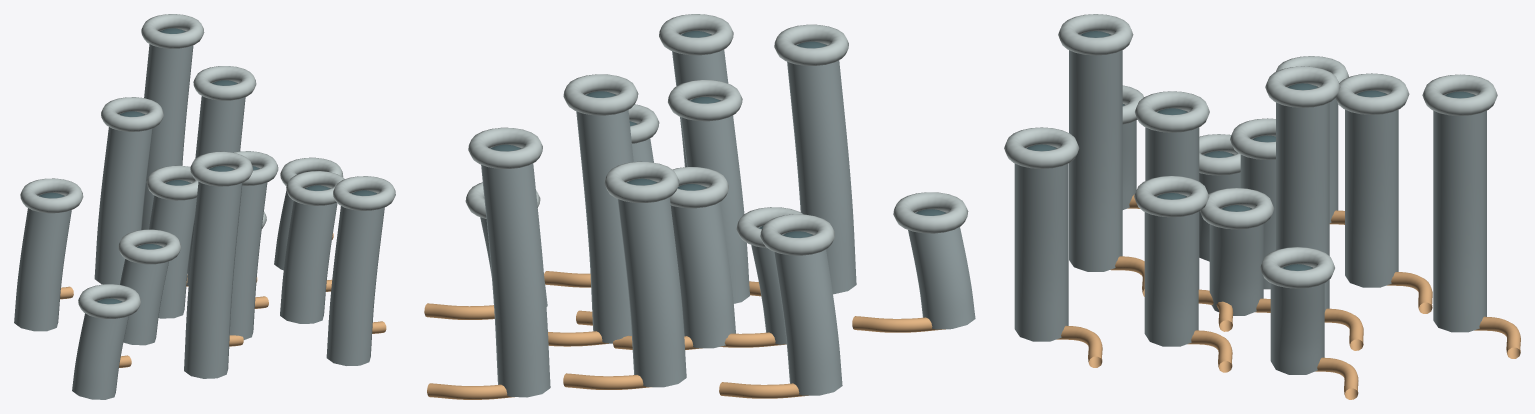
Rendered from bio_thermal_colony_16_near.glb.
The picture shows the model from 3 angles, left to right: view 1: azimuth 30°, elevation 25°; view 2: azimuth 150°, elevation 25°; view 3: azimuth 270°, elevation 25°; orthographic projection. The views are drawn at different scales.
Parts seen in each view (by area): view 1: Chimney biofilm.007, Chimney biofilm.010, Chimney biofilm.006, Chimney biofilm.009, Chimney biofilm.005, Chimney biofilm.011, Chimney biofilm.002, Chimney biofilm.012, Chimney biofilm.001, Chimney biofilm.004, Chimney biofilm.003, Open vent rim.004 (+12 smaller); view 2: Chimney biofilm.011, Chimney biofilm.007, Chimney biofilm.006, Chimney biofilm.003, Chimney biofilm.009, Chimney biofilm.001, Chimney biofilm.002, Chimney biofilm.012, Open vent rim.012, Open vent rim.003, Open vent rim.009, Open vent rim.002 (+18 smaller); view 3: Chimney biofilm.011, Chimney biofilm.007, Chimney biofilm.010, Chimney biofilm.006, Chimney biofilm.003, Chimney biofilm.005, Chimney biofilm.008, Chimney biofilm, Chimney biofilm.002, Open vent rim.007, Open vent rim.008, Open vent rim.002 (+22 smaller).
Boxes of the visible parts, bbox=[...] form: Chimney biofilm.007: bbox=[184, 168, 242, 378]; Chimney biofilm.010: bbox=[326, 192, 384, 365]; Chimney biofilm.006: bbox=[94, 113, 152, 284]; Chimney biofilm.009: bbox=[14, 195, 71, 331]; Chimney biofilm.005: bbox=[280, 187, 337, 323]; Chimney biofilm.011: bbox=[141, 30, 193, 229]; Chimney biofilm.002: bbox=[229, 167, 267, 339]; Chimney biofilm.012: bbox=[72, 300, 128, 399]; Chimney biofilm.001: bbox=[149, 182, 196, 318]; Chimney biofilm.004: bbox=[120, 246, 168, 345]; Chimney biofilm.003: bbox=[187, 82, 245, 285]; Open vent rim.004: bbox=[118, 229, 181, 264]; Chimney biofilm.011: bbox=[481, 147, 550, 397]; Chimney biofilm.007: bbox=[787, 44, 856, 294]; Chimney biofilm.006: bbox=[617, 181, 686, 387]; Chimney biofilm.003: bbox=[576, 93, 633, 343]; Chimney biofilm.009: bbox=[774, 233, 842, 395]; Chimney biofilm.001: bbox=[670, 186, 735, 348]; Chimney biofilm.002: bbox=[681, 99, 749, 303]; Chimney biofilm.012: bbox=[908, 211, 975, 329]; Open vent rim.012: bbox=[893, 192, 968, 233]; Open vent rim.003: bbox=[563, 74, 638, 115]; Open vent rim.009: bbox=[760, 214, 834, 255]; Open vent rim.002: bbox=[668, 80, 742, 121]; Chimney biofilm.011: bbox=[1433, 94, 1486, 332]; Chimney biofilm.007: bbox=[1069, 33, 1122, 271]; Chimney biofilm.010: bbox=[1014, 147, 1068, 341]; Chimney biofilm.006: bbox=[1345, 93, 1398, 287]; Chimney biofilm.003: bbox=[1276, 86, 1329, 311]; Chimney biofilm.005: bbox=[1144, 195, 1198, 346]; Chimney biofilm.008: bbox=[1270, 267, 1324, 374]; Chimney biofilm: bbox=[1209, 207, 1263, 315]; Chimney biofilm.002: bbox=[1145, 111, 1199, 289]; Open vent rim.007: bbox=[1058, 14, 1133, 55]; Open vent rim.008: bbox=[1260, 247, 1334, 288]; Open vent rim.002: bbox=[1135, 91, 1209, 132].
Bounding box in the file's own units: 1.82 × 1.03 × 1.92.
